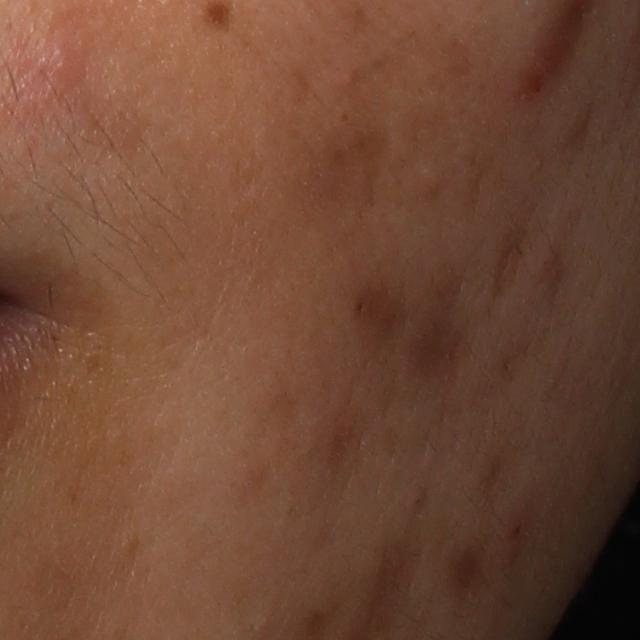papule: (20, 26, 90, 108)
